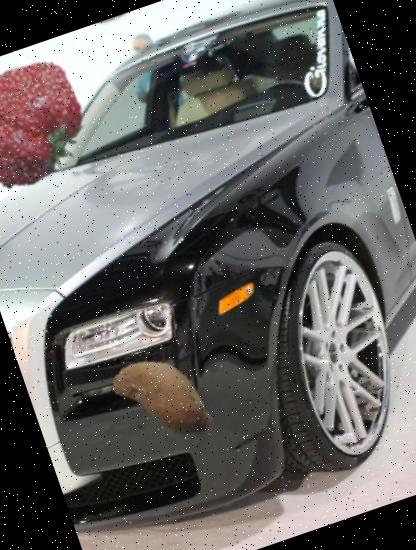Potato: (97, 326, 236, 465)
Strawberry: (0, 38, 115, 208)
